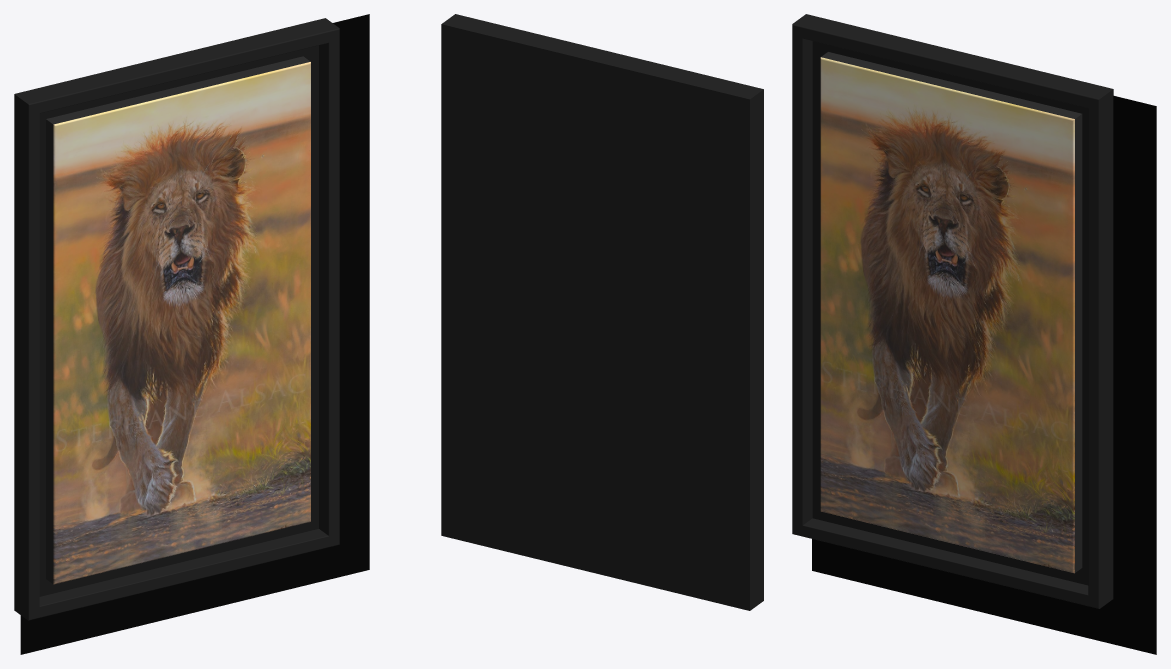
The model's file is grand-tableau-lion-classique-ad314309.glb.
The picture shows the model from 3 angles, left to right: view 1: azimuth 30°, elevation 25°; view 2: azimuth 150°, elevation 25°; view 3: azimuth 330°, elevation 25°; orthographic projection.
Visible parts, largest first — view 1: Painting; view 2: Painting; view 3: Painting.
Boxes of the visible parts, <box> form: Painting: <box>14,14,369,654</box>; Painting: <box>441,14,763,610</box>; Painting: <box>792,14,1156,654</box>.
Bounding box in the file's own units: 0.566 × 0.856 × 0.04.
Materials: 5 (3 with a texture image).
